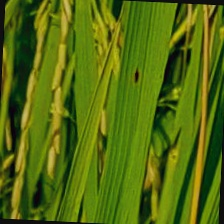Bacterial_Leaf_Blight: (129, 63, 146, 87)
